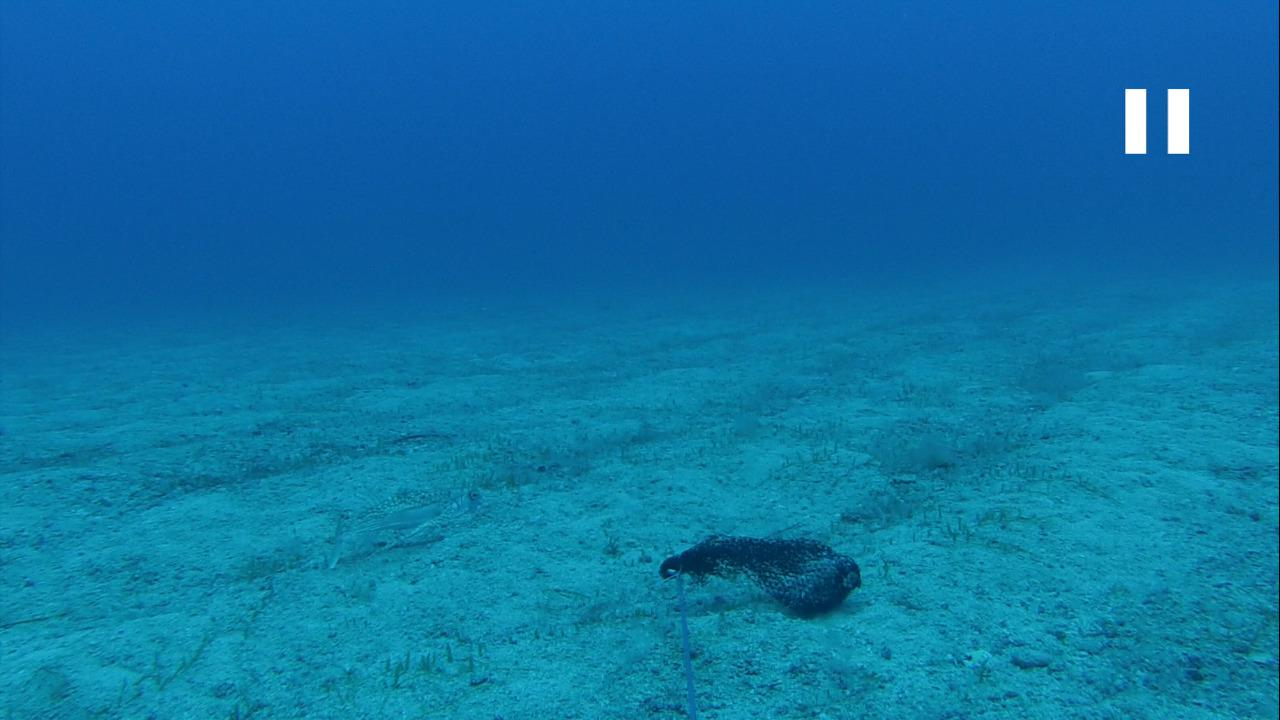dactylopterus: (313, 484, 492, 563)
